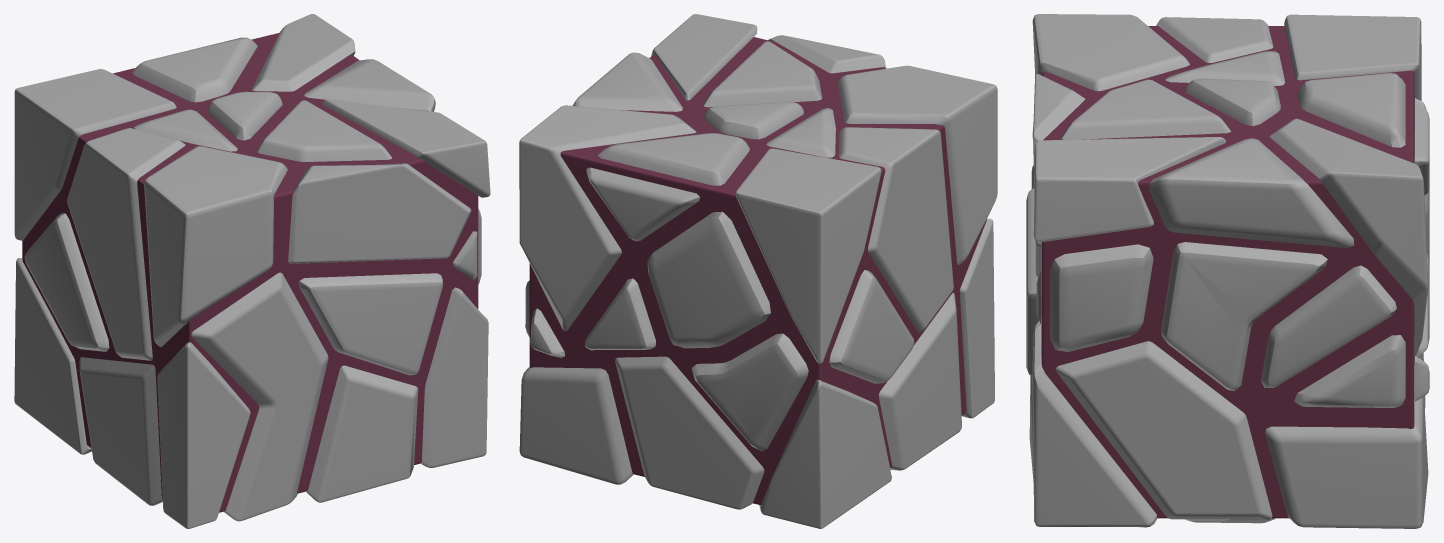
The model's file is SM_ExplosiveCube.fbx.
3 views of the same model, side by side, from view 1: azimuth 30°, elevation 25°; view 2: azimuth 150°, elevation 25°; view 3: azimuth 270°, elevation 25° (orthographic). The views are drawn at different scales.
Parts seen in each view (by area): view 1: polySurface21, Base_Cube, polySurface13, polySurface17, polySurface31, polySurface32, polySurface25, polySurface18, polySurface28, polySurface26, polySurface16, polySurface40 (+7 smaller); view 2: Base_Cube, polySurface21, polySurface25, polySurface19, polySurface31, polySurface13, polySurface26, polySurface14, polySurface15, polySurface22, polySurface40, polySurface32 (+10 smaller); view 3: Base_Cube, polySurface21, polySurface15, polySurface39, polySurface20, polySurface19, polySurface16, polySurface28, polySurface38, polySurface13, polySurface25, polySurface37 (+10 smaller).
Part boxes in pixels (<box>): polySurface21: <box>79,272,418,521</box>; Base_Cube: <box>22,32,478,512</box>; polySurface13: <box>144,146,287,347</box>; polySurface17: <box>288,163,471,263</box>; polySurface31: <box>67,128,185,360</box>; polySurface32: <box>157,342,250,528</box>; polySurface25: <box>14,69,176,240</box>; polySurface18: <box>299,273,443,375</box>; polySurface28: <box>421,287,488,467</box>; polySurface26: <box>14,258,91,454</box>; polySurface16: <box>322,99,490,197</box>; polySurface40: <box>24,213,109,351</box>; Base_Cube: <box>529,37,986,505</box>; polySurface21: <box>615,292,961,509</box>; polySurface25: <box>735,148,881,363</box>; polySurface19: <box>519,105,696,331</box>; polySurface31: <box>839,127,953,332</box>; polySurface13: <box>837,65,997,265</box>; polySurface26: <box>759,380,891,528</box>; polySurface14: <box>647,211,770,348</box>; polySurface15: <box>519,367,633,484</box>; polySurface22: <box>691,333,808,451</box>; polySurface40: <box>829,270,914,383</box>; polySurface32: <box>960,218,994,418</box>; Base_Cube: <box>1041,26,1414,518</box>; polySurface21: <box>1029,165,1425,523</box>; polySurface15: <box>1265,389,1428,528</box>; polySurface39: <box>1161,242,1327,390</box>; polySurface20: <box>1149,138,1354,247</box>; polySurface19: <box>1269,118,1428,358</box>; polySurface16: <box>1033,137,1226,242</box>; polySurface28: <box>1032,319,1157,527</box>; polySurface38: <box>1050,244,1153,351</box>; polySurface13: <box>1032,14,1189,137</box>; polySurface25: <box>1284,14,1421,163</box>; polySurface37: <box>1261,265,1396,387</box>.
Bounding box in the file's own units: 43.2 × 43.7 × 43.2.
